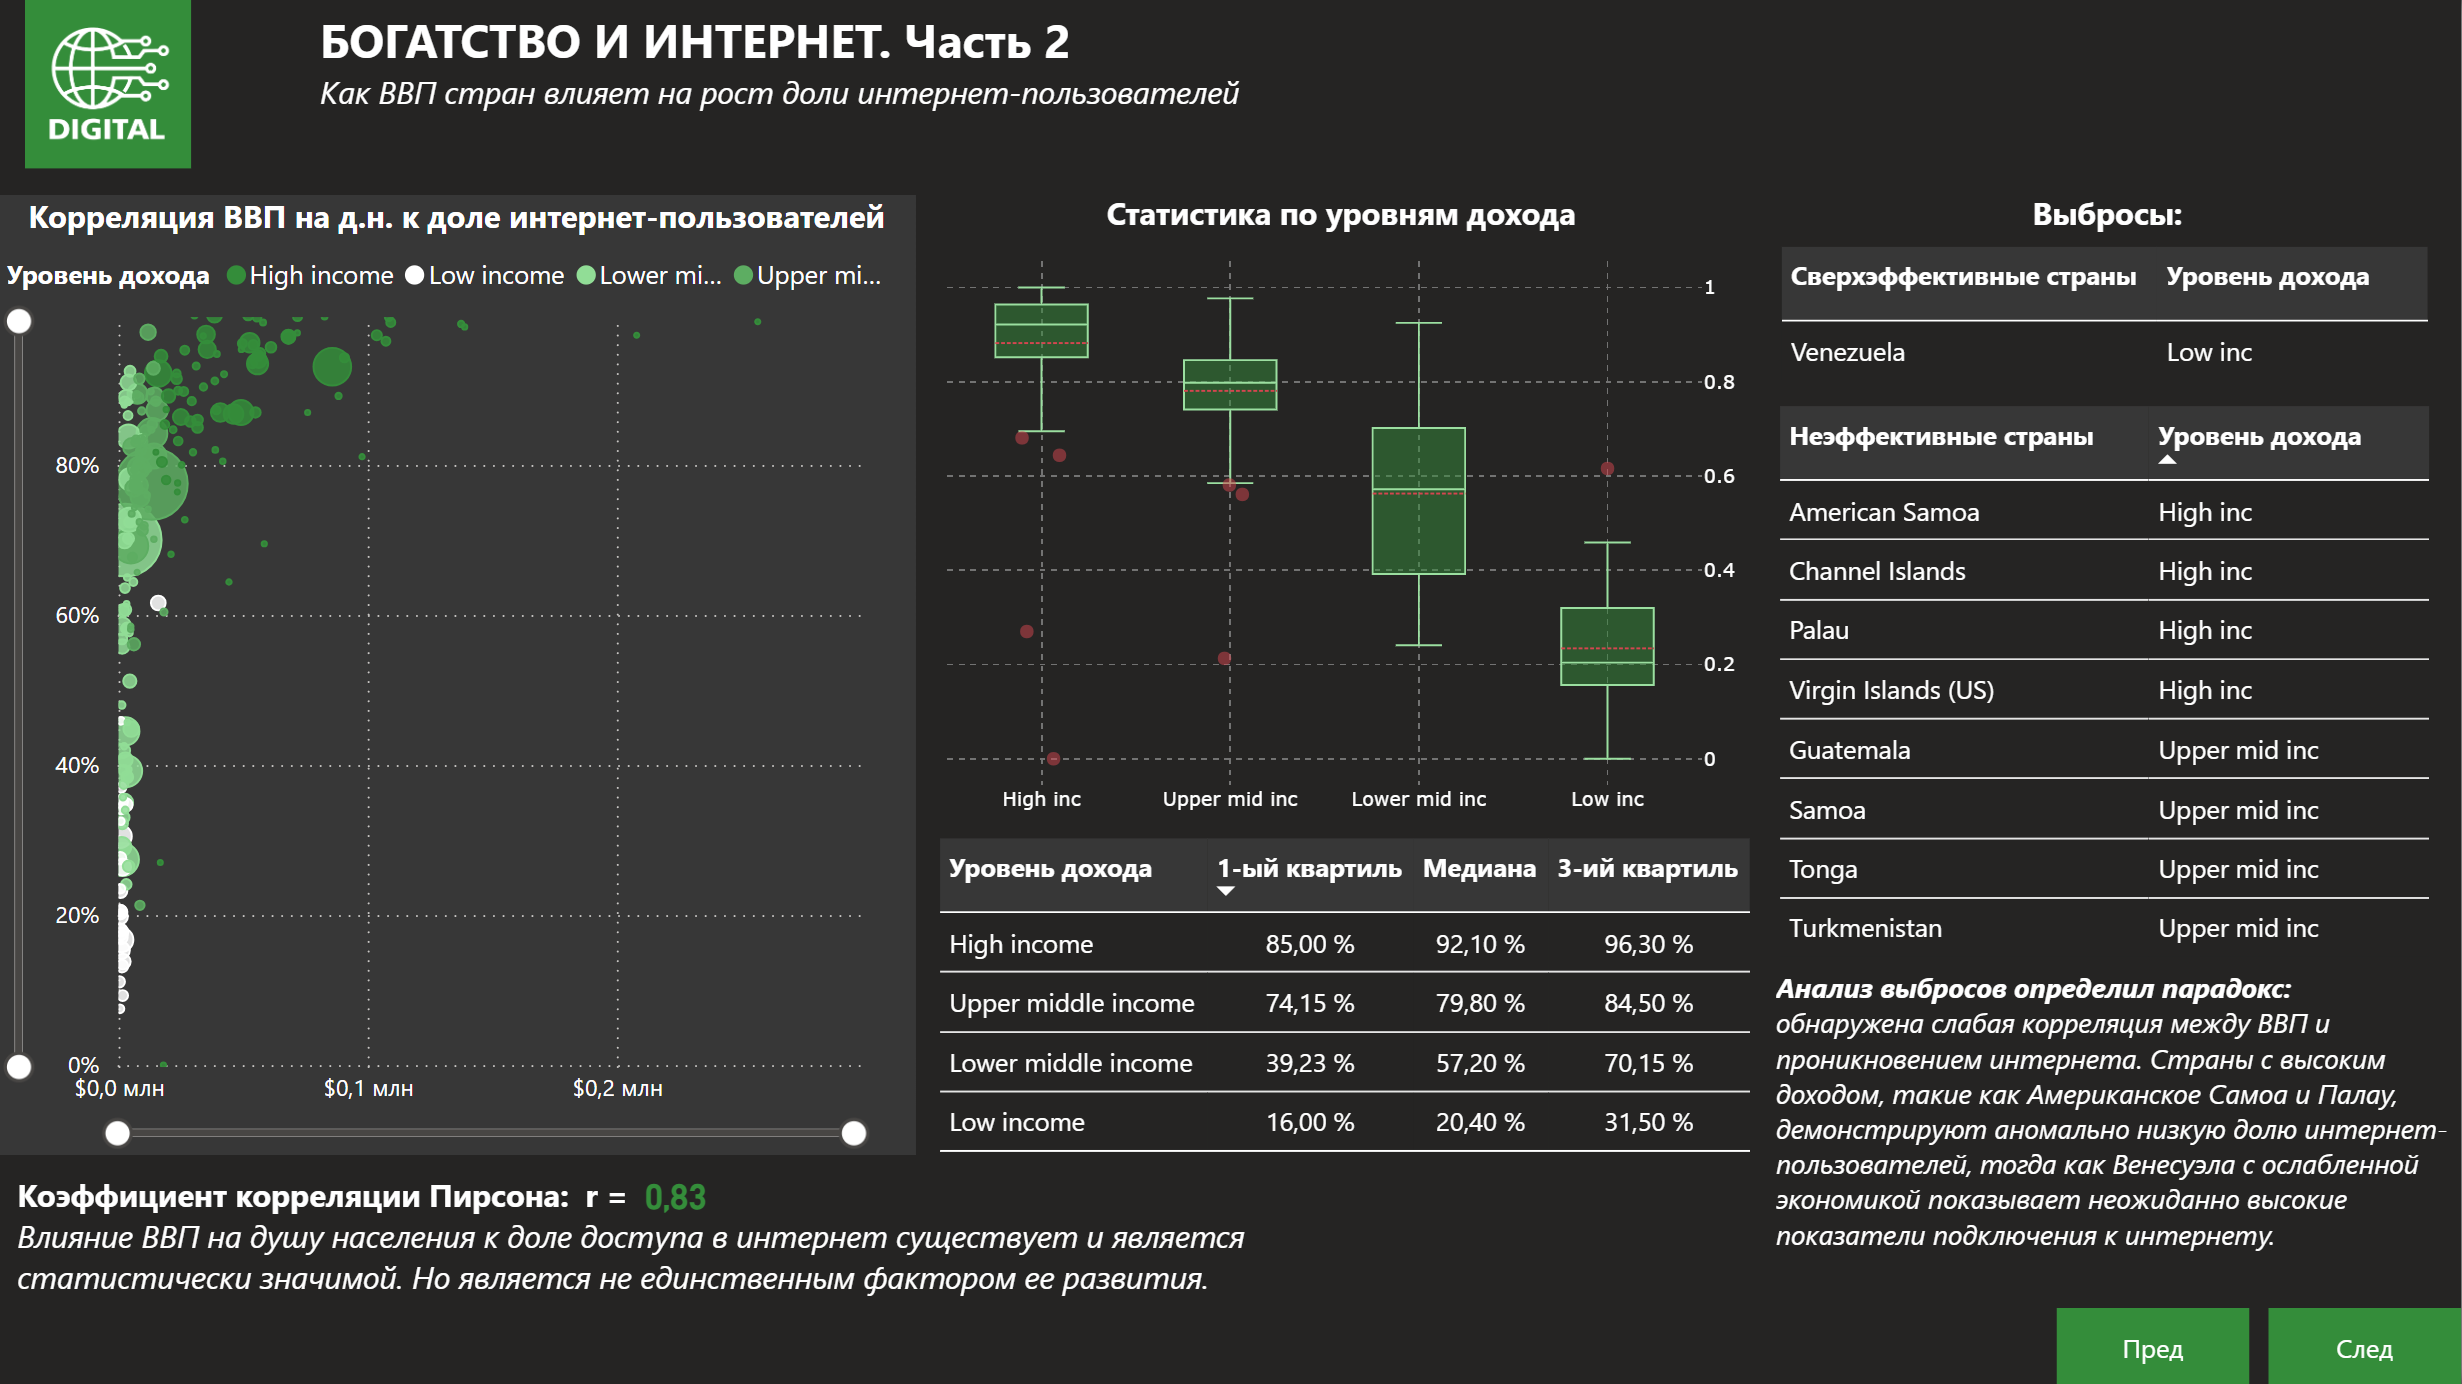

What the dashboard file says about the page in this screenshot:
{"tool":"powerbi","page":{"name":"wealth_corr","canvas":[1280,720],"ordinal":4},"visuals":[{"type":"group","id":"g1","title":"header","box":[14.7,0,1264.9,87.4],"z":0},{"type":"shape","box":[14.7,0,86.3,88.1],"z":0,"group":"g2"},{"type":"textbox","title":"шапка","box":[163,0,1116.7,70],"z":0,"group":"g1"},{"type":"scatterChart","title":"Корреляция ВВП на д.н. к доле интернет-пользователей","fields":{"Y":["calculations_global.percent_connected"],"Series":["regions.IncomeGroup"],"Category":["regions.Country Name"],"X":["calculation_gdp.gdp"],"Size":["calculations_global.global_population"]},"box":[0,101.9,477.4,498.1],"z":0,"group":"g6"},{"type":"actionButton","title":"след","box":[1180,680,100,40],"z":0,"group":"g3"},{"type":"group","id":"g2","title":"лого","box":[14.7,0,86.4,87.4],"z":500,"group":"g1"},{"type":"image","box":[19,4.3,77.9,79.1],"z":1000,"group":"g2"},{"type":"tableEx","fields":{"Values":["internet_performance_categories.IncomeGroup","internet_performance_categories.Q1","internet_performance_categories.Median","internet_performance_categories.Q3"]},"box":[483.6,430.9,437.3,178.2],"z":1000,"group":"g6"},{"type":"textbox","box":[5.8,604.9,664.2,88],"z":1000,"group":"g4"},{"type":"group","id":"g3","title":"nav","box":[1070,680,210,40],"z":1000},{"type":"actionButton","title":"пред","box":[1070,680,100,40],"z":1000,"group":"g3"},{"type":"card","fields":{"Values":["calculation_gdp_corr.correlation_spearman"]},"box":[316.6,604.8,72.3,33.5],"z":1500,"group":"g4"},{"type":"boxandwhiskerwithpoints6C29D629F202A5FF5B6B023486584FCA","title":"Статистика по уровням дохода","fields":{"col_5":["regions.Country Name"],"col_2":["calculations_global.percent_connected"],"col_0":["internet_performance_categories.IncomeGroupShort"]},"box":[484.1,99.8,429.3,331.3],"z":2000,"group":"g6"},{"type":"group","id":"g4","title":"анализ","box":[5.8,604.8,664.2,88],"z":3000,"group":"g6"},{"type":"group","id":"g5","title":"выбросы","box":[919.1,100.2,359.7,570],"z":4000,"group":"g6"},{"type":"textbox","box":[919.1,499.4,359.7,170.8],"z":5500,"group":"g5"},{"type":"tableEx","fields":{"Values":["internet_performance_categories.Country Name","internet_performance_categories.IncomeGroupShort"]},"box":[919.6,206.7,350.7,310.1],"z":7000,"group":"g5"},{"type":"tableEx","fields":{"Values":["internet_performance_categories.Country Name","internet_performance_categories.IncomeGroupShort"]},"box":[920.5,123.7,350.7,83],"z":7500,"group":"g5"},{"type":"textbox","box":[920.5,100.2,350.7,39.3],"z":8000,"group":"g5"},{"type":"group","id":"g6","title":"visual","box":[0,99.8,1278.8,593],"z":8002}]}

Visuals, with their boxes in screenshot pixels (x1, y1, x2, y2), scaled from the page's 1280x720 canvas onto the 2462x1384 screenshot:
"header" group: region(28, 0, 2461, 168)
shape: region(28, 0, 194, 169)
"шапка" textbox: region(314, 0, 2461, 135)
"Корреляция ВВП на д.н. к доле интернет-пользователей" scatterChart: region(0, 196, 918, 1153)
"след" actionButton: region(2270, 1307, 2461, 1383)
"лого" group: region(28, 0, 194, 168)
image: region(37, 8, 186, 160)
tableEx - internet_performance_categories.IncomeGroup x internet_performance_categories.Q1: region(930, 828, 1771, 1171)
textbox: region(11, 1163, 1289, 1332)
"nav" group: region(2058, 1307, 2461, 1383)
"пред" actionButton: region(2058, 1307, 2250, 1383)
card - calculation_gdp_corr.correlation_spearman: region(609, 1163, 748, 1227)
"Статистика по уровням дохода" boxandwhiskerwithpoints6C29D629F202A5FF5B6B023486584FCA: region(931, 192, 1757, 829)
"анализ" group: region(11, 1163, 1289, 1332)
"выбросы" group: region(1768, 193, 2460, 1288)
textbox: region(1768, 960, 2460, 1288)
tableEx - internet_performance_categories.Country Name x internet_performance_categories.IncomeGroupShort: region(1769, 397, 2443, 993)
tableEx - internet_performance_categories.Country Name x internet_performance_categories.IncomeGroupShort: region(1771, 238, 2445, 397)
textbox: region(1771, 193, 2445, 268)
"visual" group: region(0, 192, 2460, 1332)
